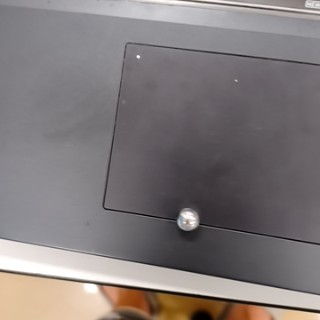ironball: (176, 197, 204, 238)
